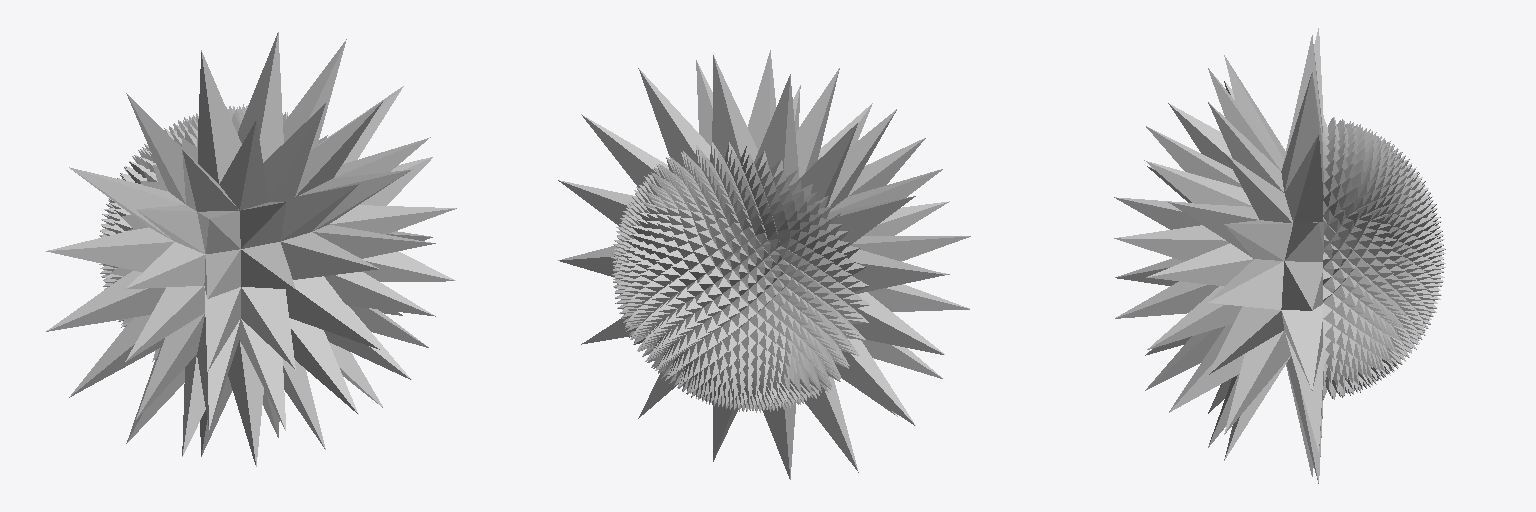
Rendered from Distel2Origin.obj.
The picture shows the model from 3 angles: view 1: azimuth 30°, elevation 25°; view 2: azimuth 150°, elevation 25°; view 3: azimuth 270°, elevation 25°; orthographic projection.
Parts seen in each view (by area): view 1: Flower_Cube.001; view 2: Flower_Cube.001; view 3: Flower_Cube.001.
Part boxes in pixels (x1,y1,x2,y2): Flower_Cube.001: (46, 32, 456, 466); Flower_Cube.001: (558, 50, 970, 479); Flower_Cube.001: (1114, 28, 1445, 483).
Bounding box in the file's own units: 2.01 × 2.01 × 1.49.